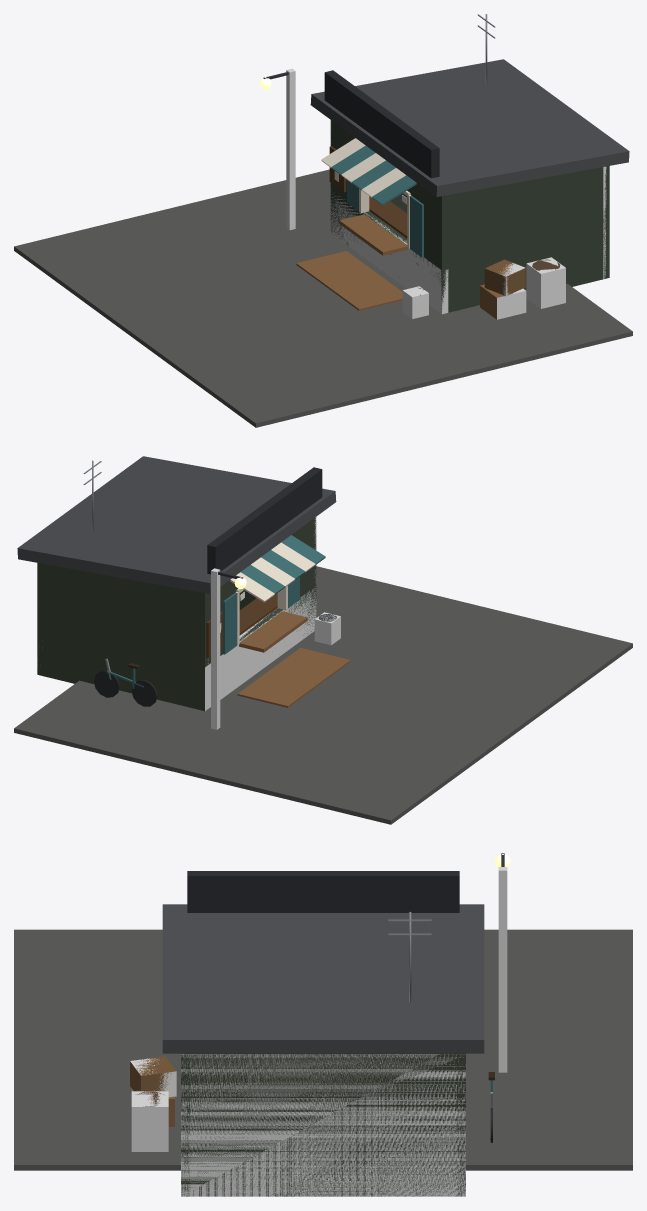
File: booth-1.glb
The picture shows the model from 3 angles, top to bottom: view 1: azimuth 30°, elevation 25°; view 2: azimuth 150°, elevation 25°; view 3: azimuth 270°, elevation 25°; orthographic projection. The views are drawn at different scales.
Visible parts, largest first — view 1: 30_#5a5a58_noshadow, 31_#4c4e52, 20_#3c4638, 32_#2a2c30_noshadow, solid.008, 04_#8a6440_noshadow, 01_#3f6f73_noshadow_r320, 00_#e8e0d0_noshadow_r320, 07_#8a6440_r320, solid.003, solid.004, 21_#3c4638_r320 (+4 smaller); view 2: 30_#5a5a58_noshadow, 31_#4c4e52, 20_#3c4638, 32_#2a2c30_noshadow, 04_#8a6440_noshadow, solid.008, 01_#3f6f73_noshadow_r320, 00_#e8e0d0_noshadow_r320, solid.004, 07_#8a6440_r320, 13_#2a2c30_r110, 21_#3c4638_r320 (+2 smaller); view 3: 30_#5a5a58_noshadow, 31_#4c4e52, solid.005, 20_#3c4638, 32_#2a2c30_noshadow, solid.003, solid.004, 08_#7a5a3a_r110, solid.002.
Boxes of the visible parts, box(x1,y1,x2,y2) form: 30_#5a5a58_noshadow: box(14, 169, 632, 427); 31_#4c4e52: box(310, 59, 629, 197); 20_#3c4638: box(330, 120, 609, 312); 32_#2a2c30_noshadow: box(324, 70, 439, 178); solid.008: box(330, 192, 448, 314); 04_#8a6440_noshadow: box(296, 251, 402, 310); 01_#3f6f73_noshadow_r320: box(331, 145, 423, 257); 00_#e8e0d0_noshadow_r320: box(321, 138, 411, 248); 07_#8a6440_r320: box(339, 214, 512, 319); solid.003: box(526, 257, 565, 308); solid.004: box(286, 68, 295, 230); 21_#3c4638_r320: box(331, 137, 442, 269); 30_#5a5a58_noshadow: box(14, 566, 632, 824); 31_#4c4e52: box(17, 456, 336, 593); 20_#3c4638: box(37, 518, 316, 711); 32_#2a2c30_noshadow: box(207, 467, 322, 574); 04_#8a6440_noshadow: box(237, 648, 350, 707); solid.008: box(205, 588, 316, 710); 01_#3f6f73_noshadow_r320: box(223, 535, 325, 654); 00_#e8e0d0_noshadow_r320: box(230, 542, 315, 645); solid.004: box(211, 568, 220, 729); 07_#8a6440_r320: box(239, 611, 307, 652); 13_#2a2c30_r110: box(94, 670, 157, 706); 21_#3c4638_r320: box(198, 534, 316, 666); 30_#5a5a58_noshadow: box(14, 929, 632, 1170); 31_#4c4e52: box(162, 904, 484, 1053); solid.005: box(181, 1054, 465, 1196); 20_#3c4638: box(181, 1053, 465, 1196); 32_#2a2c30_noshadow: box(187, 871, 459, 912); solid.003: box(131, 1091, 168, 1151); solid.004: box(498, 867, 507, 1072); 08_#7a5a3a_r110: box(130, 1056, 175, 1091); solid.002: box(130, 1058, 176, 1097).
Size of the model in its own units: 10.3 by 4.7 by 10.
